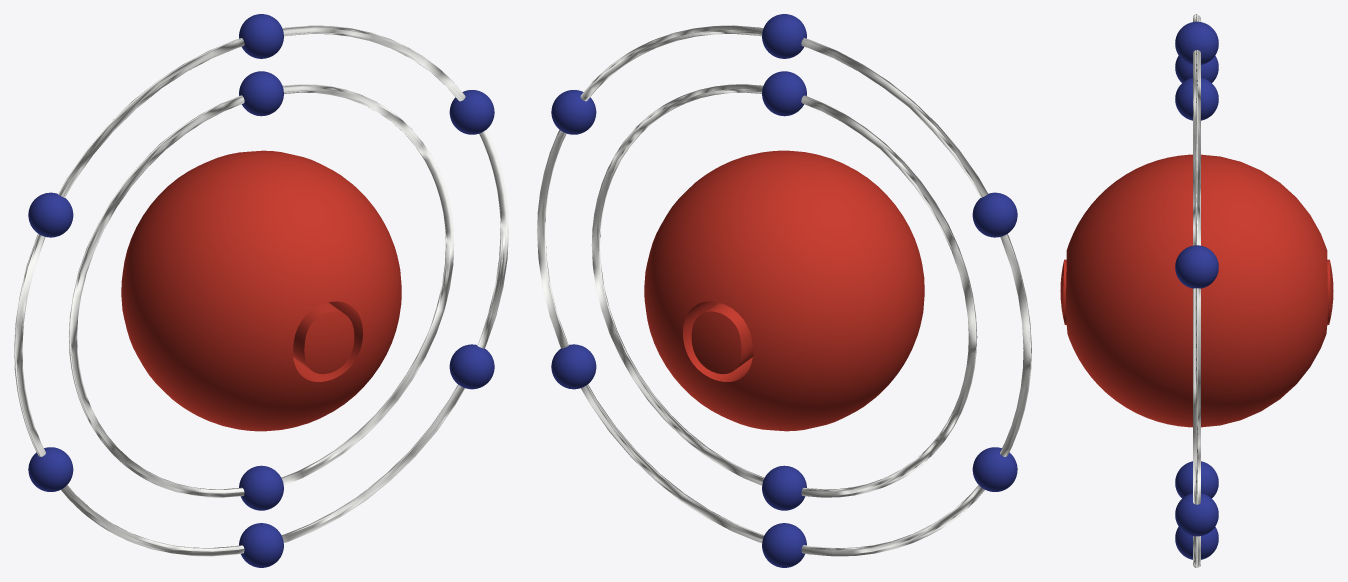
The picture shows the model from 3 angles, left to right: view 1: azimuth 30°, elevation 25°; view 2: azimuth 150°, elevation 25°; view 3: azimuth 270°, elevation 25°; orthographic projection. The views are drawn at different scales.
Parts seen in each view (by area): view 1: Body12, Body3, Body2, Body1, Body7, Body10, Body4, Body5, Body6, Body9, Body8, Body11; view 2: Body12, Body3, Body2, Body1, Body7, Body10, Body4, Body5, Body6, Body9, Body8, Body11; view 3: Body12, Body3, Body11, Body10, Body6, Body4, Body5, Body9, Body7, Body1.
Boxes of the visible parts, x1=… form: Body12: x1=121, y1=150, x2=401, y2=431; Body3: x1=14, y1=25, x2=508, y2=556; Body2: x1=68, y1=84, x2=454, y2=497; Body1: x1=293, y1=302, x2=354, y2=374; Body7: x1=28, y1=192, x2=73, y2=237; Body10: x1=449, y1=344, x2=494, y2=389; Body4: x1=239, y1=71, x2=283, y2=116; Body5: x1=239, y1=465, x2=283, y2=510; Body6: x1=239, y1=14, x2=283, y2=58; Body9: x1=239, y1=523, x2=283, y2=567; Body8: x1=28, y1=447, x2=73, y2=491; Body11: x1=449, y1=90, x2=494, y2=134; Body12: x1=644, y1=150, x2=924, y2=431; Body3: x1=537, y1=25, x2=1031, y2=556; Body2: x1=591, y1=84, x2=977, y2=497; Body1: x1=691, y1=302, x2=752, y2=374; Body7: x1=972, y1=192, x2=1017, y2=237; Body10: x1=551, y1=344, x2=596, y2=389; Body4: x1=762, y1=71, x2=806, y2=116; Body5: x1=762, y1=465, x2=806, y2=510; Body6: x1=762, y1=14, x2=806, y2=58; Body9: x1=762, y1=523, x2=806, y2=567; Body8: x1=972, y1=447, x2=1017, y2=491; Body11: x1=551, y1=90, x2=596, y2=134; Body12: x1=1066, y1=154, x2=1327, y2=427; Body3: x1=1193, y1=14, x2=1200, y2=567; Body11: x1=1175, y1=245, x2=1218, y2=288; Body10: x1=1175, y1=493, x2=1218, y2=536; Body6: x1=1175, y1=21, x2=1218, y2=64; Body4: x1=1175, y1=78, x2=1218, y2=120; Body5: x1=1175, y1=461, x2=1218, y2=498; Body9: x1=1175, y1=527, x2=1218, y2=559; Body7: x1=1175, y1=55, x2=1218, y2=82; Body1: x1=1060, y1=259, x2=1333, y2=324.
Size of the model in its own units: 203 by 216 by 100.
